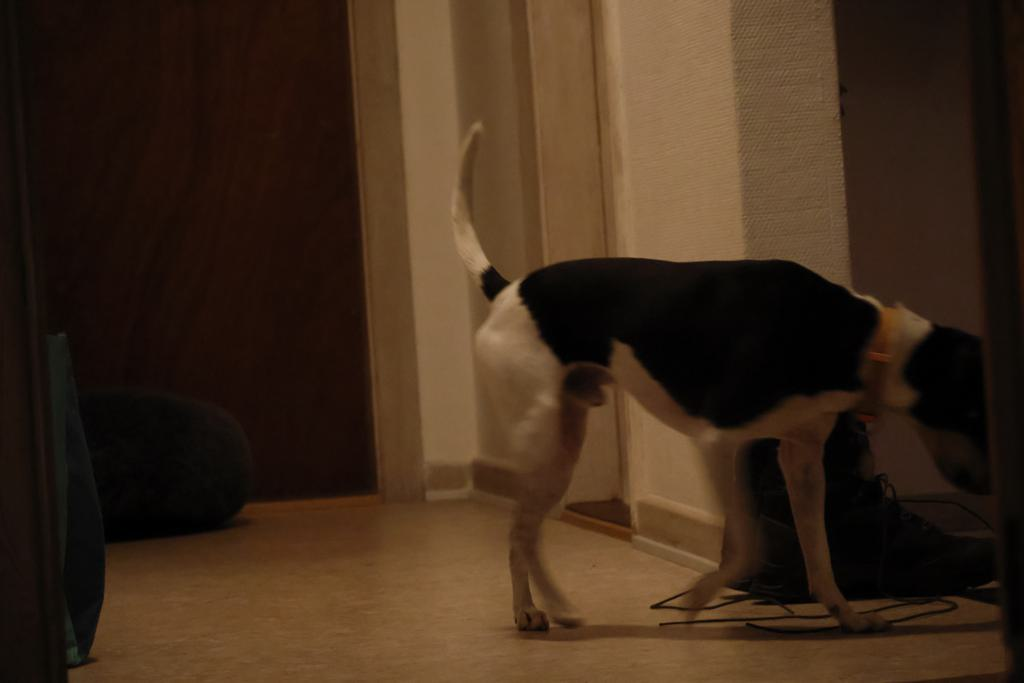Dog: (444, 105, 1018, 642)
